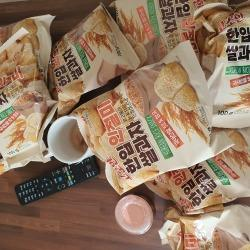snack: (53, 67, 213, 236)
